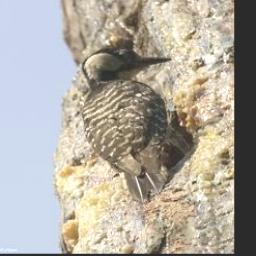Woodpecker: (80, 44, 196, 207)
